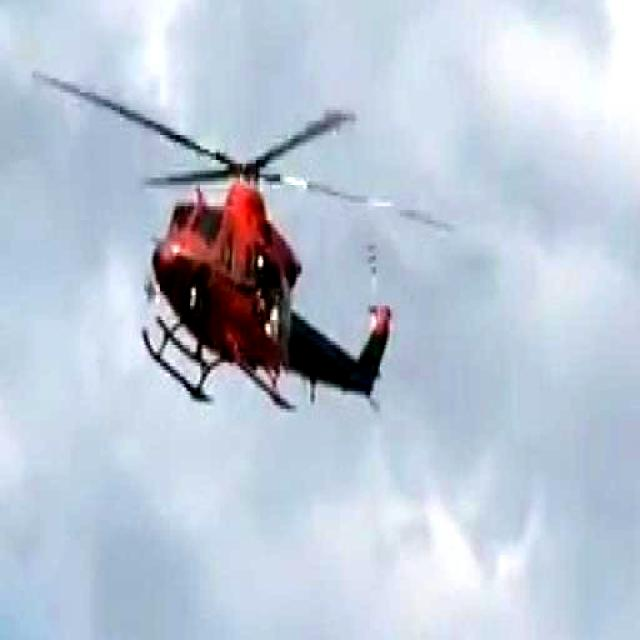drone: (36, 55, 442, 421)
